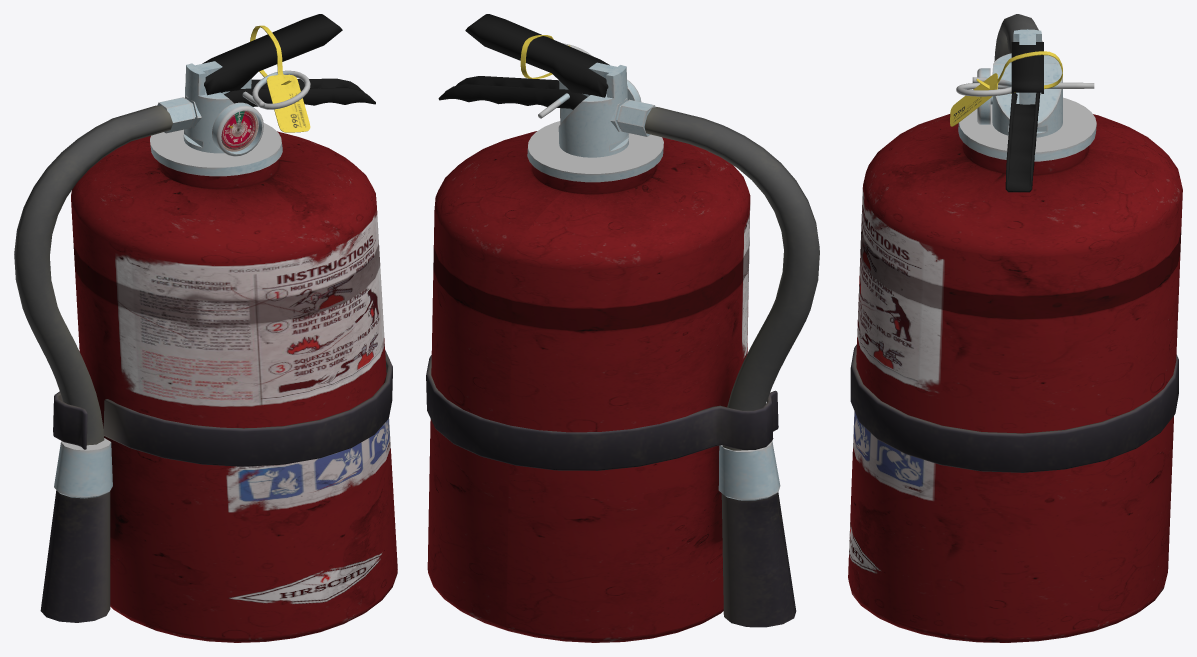
Rendered from fire-extinguisher_CO2.glb.
3 views of the same model, side by side, from view 1: azimuth 30°, elevation 25°; view 2: azimuth 150°, elevation 25°; view 3: azimuth 270°, elevation 25° (orthographic). The views are drawn at different scales.
Visible parts, largest first — view 1: cylinder_fire-extinguisher, hose_CO2_fire-extinguisher, Cylinder.004, nozzle_CO2_fire-extinguisher, handle_top_CO2_fire-extinguisher, Cylinder.001, Cylinder.006, stamp_CO2_fire-extinguisher, handle_bottom_CO2_fire-extinguisher, Cylinder.002, safety_pin_CO2_fire-extinguisher; view 2: cylinder_fire-extinguisher, Cylinder.004, hose_CO2_fire-extinguisher, nozzle_CO2_fire-extinguisher, handle_top_CO2_fire-extinguisher, Cylinder.001, handle_bottom_CO2_fire-extinguisher, Cylinder.002; view 3: cylinder_fire-extinguisher, Cylinder.004, Cylinder.001, handle_bottom_CO2_fire-extinguisher, handle_top_CO2_fire-extinguisher, stamp_CO2_fire-extinguisher, safety_pin_CO2_fire-extinguisher, hose_CO2_fire-extinguisher.
Part boxes in pixels (x1,y1,x2,y2): cylinder_fire-extinguisher: (71,123,397,642); hose_CO2_fire-extinguisher: (14,105,172,445); Cylinder.004: (53,350,392,466); nozzle_CO2_fire-extinguisher: (40,438,112,622); handle_top_CO2_fire-extinguisher: (202,14,342,95); Cylinder.001: (183,61,251,153); Cylinder.006: (212,102,263,156); stamp_CO2_fire-extinguisher: (250,25,310,132); handle_bottom_CO2_fire-extinguisher: (224,78,375,106); Cylinder.002: (157,96,201,133); safety_pin_CO2_fire-extinguisher: (242,70,310,109); cylinder_fire-extinguisher: (427,121,750,642); Cylinder.004: (426,355,778,470); hose_CO2_fire-extinguisher: (644,107,819,450); nozzle_CO2_fire-extinguisher: (718,441,796,627); handle_top_CO2_fire-extinguisher: (465,14,609,97); Cylinder.001: (558,62,628,157); handle_bottom_CO2_fire-extinguisher: (438,76,587,109); Cylinder.002: (610,98,655,136); cylinder_fire-extinguisher: (848,97,1182,642); Cylinder.004: (850,344,1178,472); Cylinder.001: (992,29,1062,137); handle_bottom_CO2_fire-extinguisher: (1005,92,1040,192); handle_top_CO2_fire-extinguisher: (1011,42,1043,93); stamp_CO2_fire-extinguisher: (950,51,1062,126); safety_pin_CO2_fire-extinguisher: (956,77,1094,96); hose_CO2_fire-extinguisher: (994,14,1042,61).
Bounding box in the file's own units: 1.98 × 2.8 × 1.53.
Materials: 1 (1 with a texture image).
